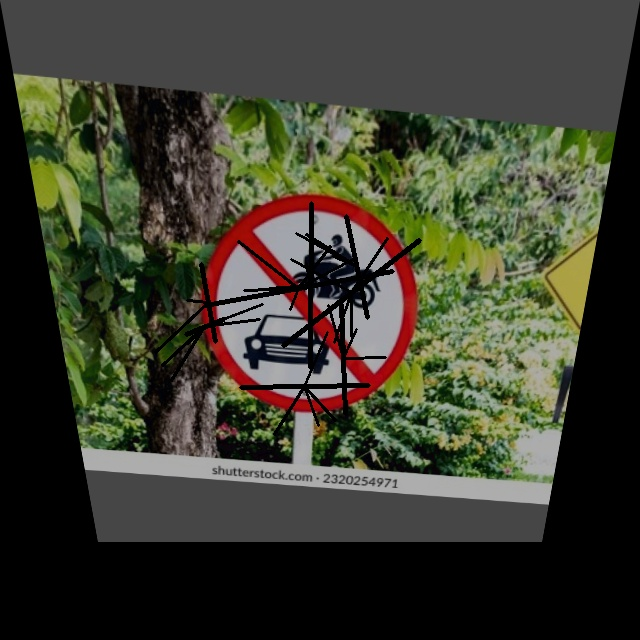All_Motor_Vehicles_Prohibited: (185, 186, 428, 413)
